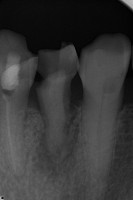Furcation Involvement: (38, 120, 80, 181)
